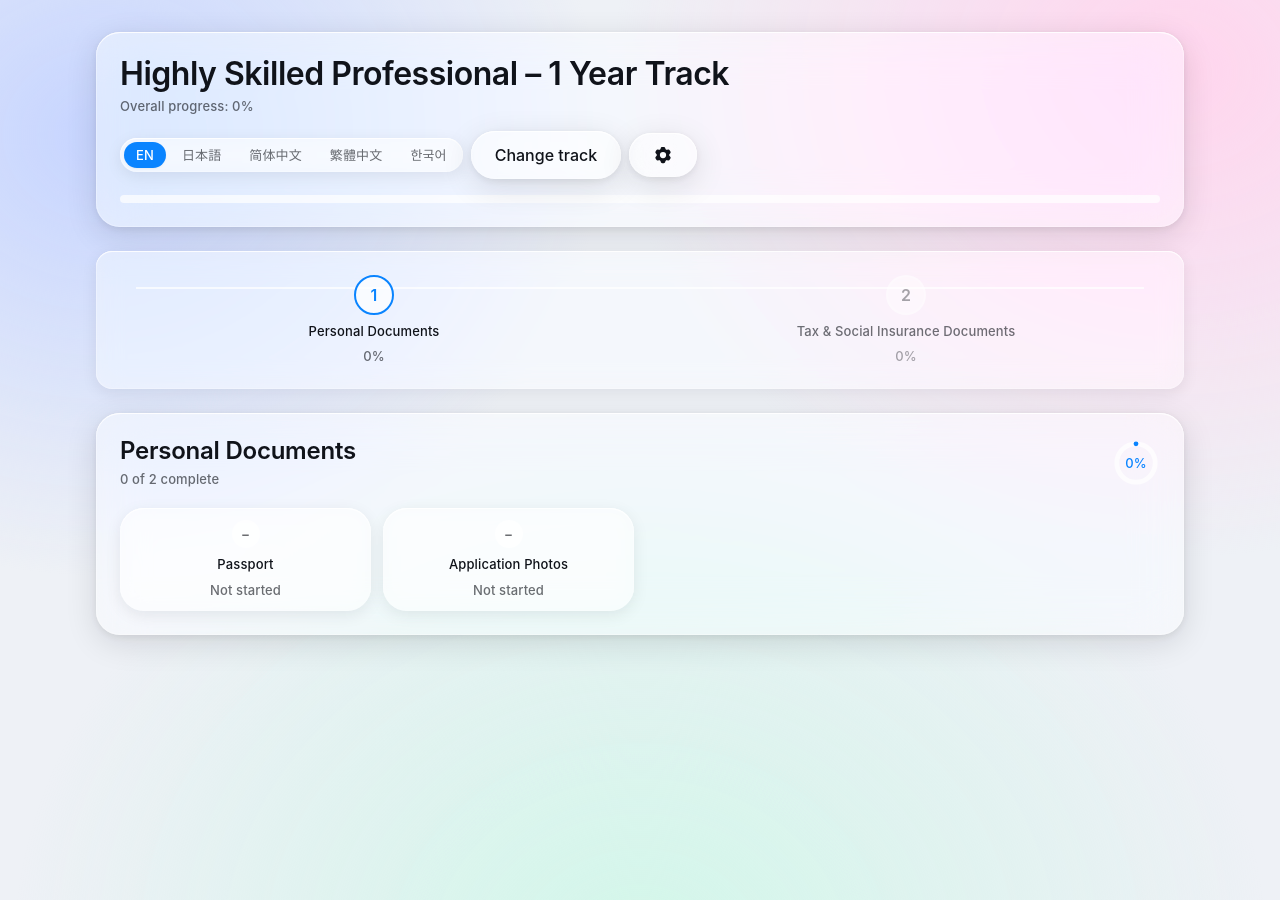
Test: QuestMapPage – status visualization (7.2) › clicking a doc item opens the document panel
Click the button with test id "doc-item-passport" at (246, 560), box [120,508,371,611]
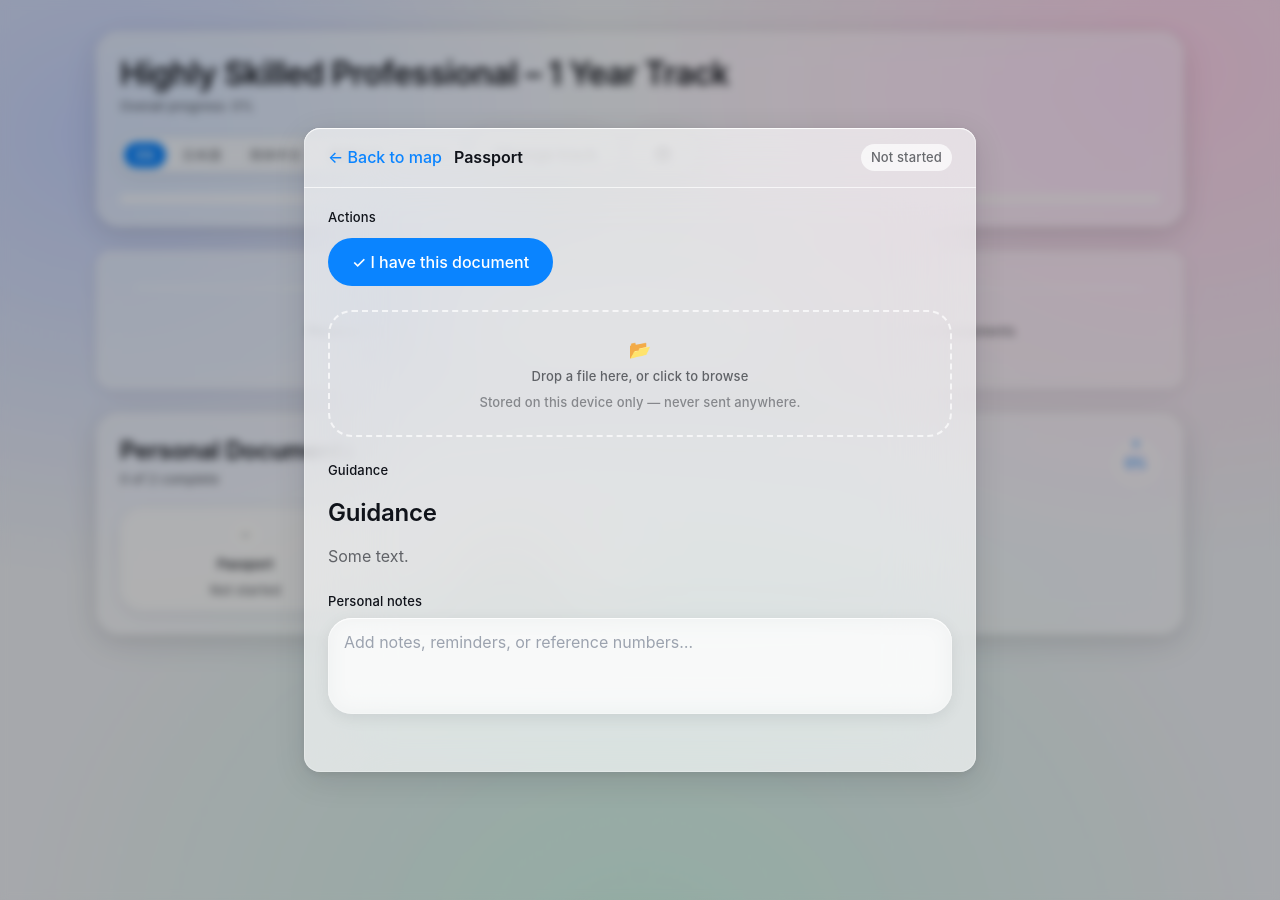
Expected: the dialog with test id "document-panel" is shown
